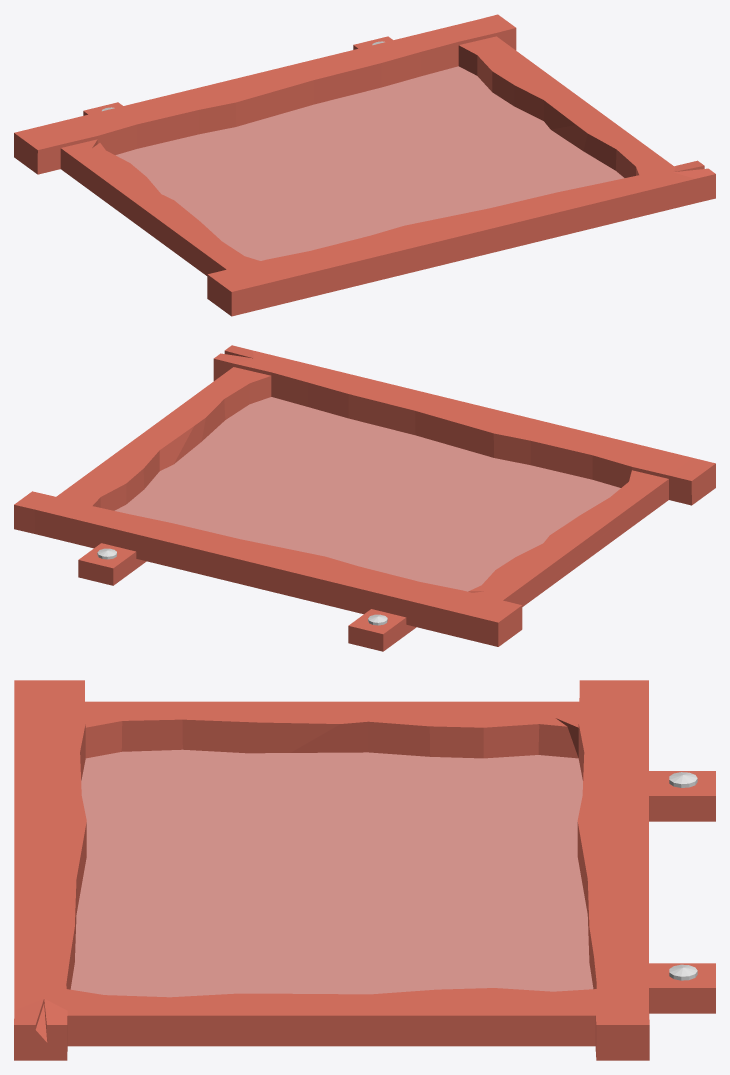
File: Frame.fbx
3 renders of one model, top to bottom at view 1: azimuth 30°, elevation 25°; view 2: azimuth 150°, elevation 25°; view 3: azimuth 270°, elevation 25°, orthographic. The views are drawn at different scales.
Visible parts, largest first — view 1: Plane.001; view 2: Plane.001; view 3: Plane.001, Circle.
Boxes of the visible parts, box(x1,y1,x2,y2) form: Plane.001: box(14, 14, 715, 316); Plane.001: box(14, 345, 715, 651); Plane.001: box(14, 680, 715, 1060); Circle: box(669, 772, 697, 980).
Bounding box in the file's own units: 688 × 50.27 × 593.
